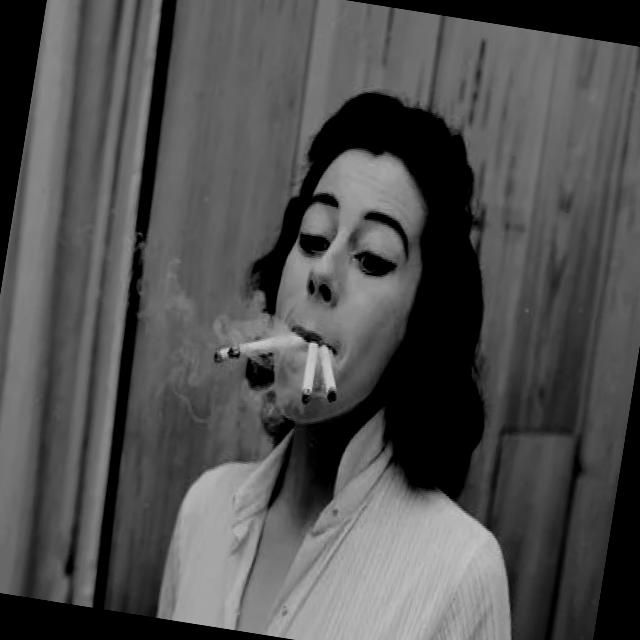smoke: (210, 314, 312, 386), (311, 342, 348, 408), (298, 340, 322, 408)
